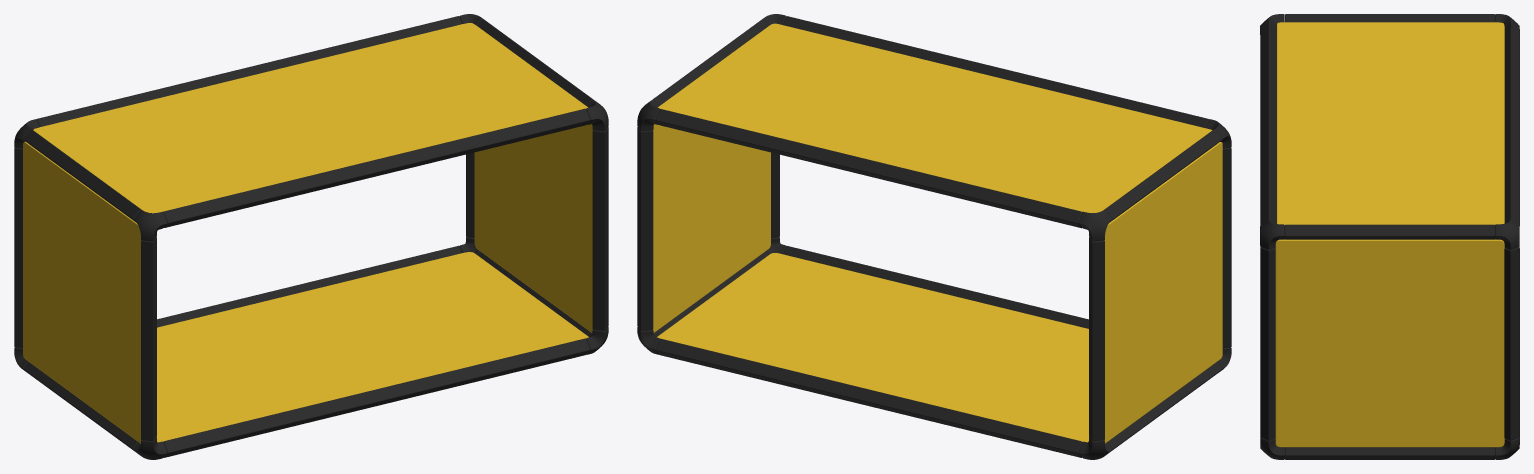
The picture shows the model from 3 angles, left to right: view 1: azimuth 30°, elevation 25°; view 2: azimuth 150°, elevation 25°; view 3: azimuth 270°, elevation 25°; orthographic projection. The views are drawn at different scales.
Visible parts, largest first — view 1: 729x329x329; view 2: 729x329x329; view 3: 729x329x329.
Part boxes in pixels (left/top/right/bottom): 729x329x329: left=14, top=14, right=608, bottom=459; 729x329x329: left=637, top=14, right=1231, bottom=459; 729x329x329: left=1260, top=14, right=1519, bottom=459.
Bounding box in the file's own units: 0.8067 × 0.4066 × 0.4063.
